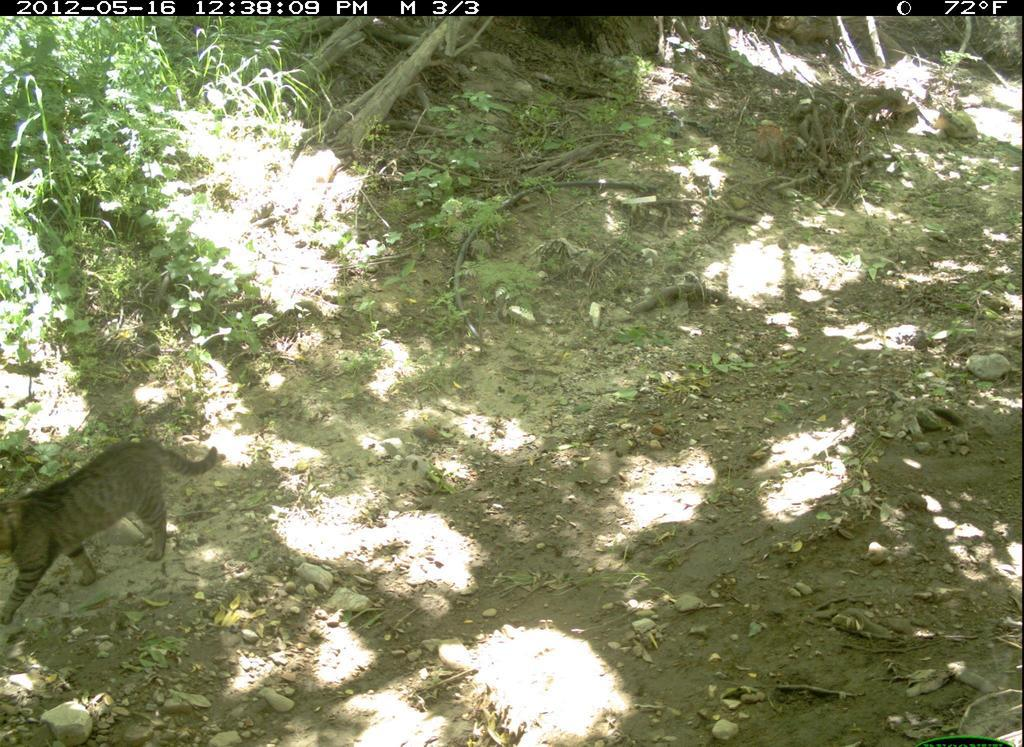cat: (1, 436, 222, 628)
